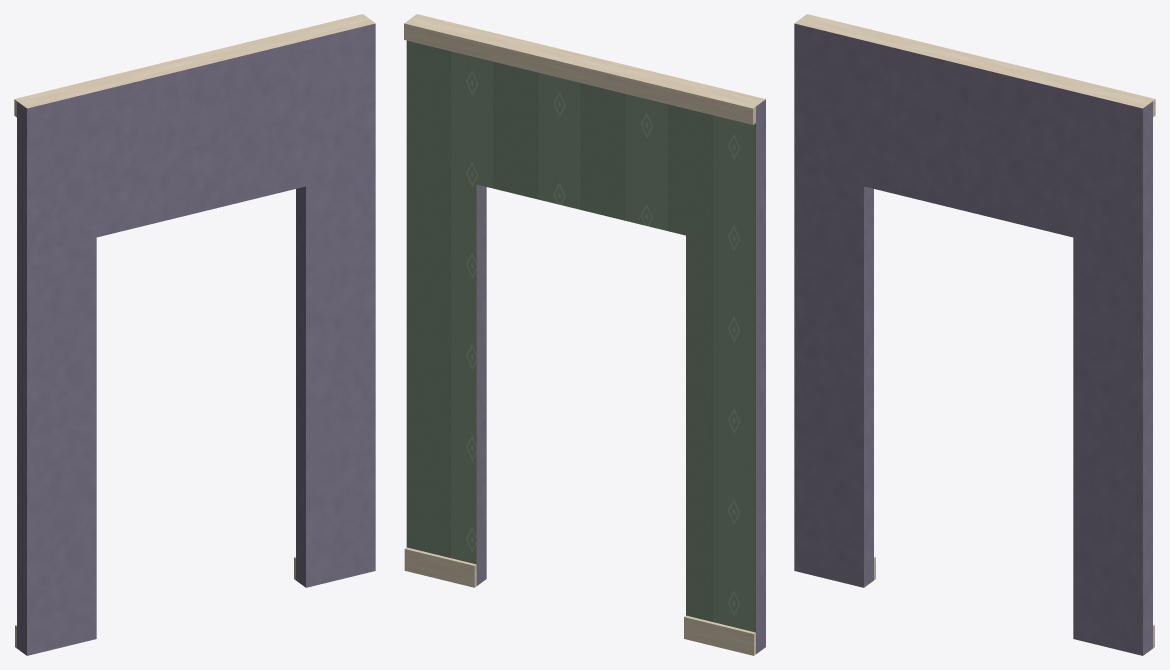
The model's file is SM_Wall_Doorway_2x3.fbx.
3 views of the same model, side by side, from view 1: azimuth 30°, elevation 25°; view 2: azimuth 150°, elevation 25°; view 3: azimuth 330°, elevation 25° (orthographic).
Parts seen in each view (by area): view 1: SM_Wall_Doorway_2x3; view 2: SM_Wall_Doorway_2x3; view 3: SM_Wall_Doorway_2x3.
Part boxes in pixels (x1=…): SM_Wall_Doorway_2x3: x1=14, y1=14, x2=375, y2=655; SM_Wall_Doorway_2x3: x1=404, y1=14, x2=765, y2=655; SM_Wall_Doorway_2x3: x1=794, y1=14, x2=1155, y2=655.
Size of what is drawn, in the model's own units: 2 by 3 by 0.128.
Materials: 3 (3 with a texture image).
